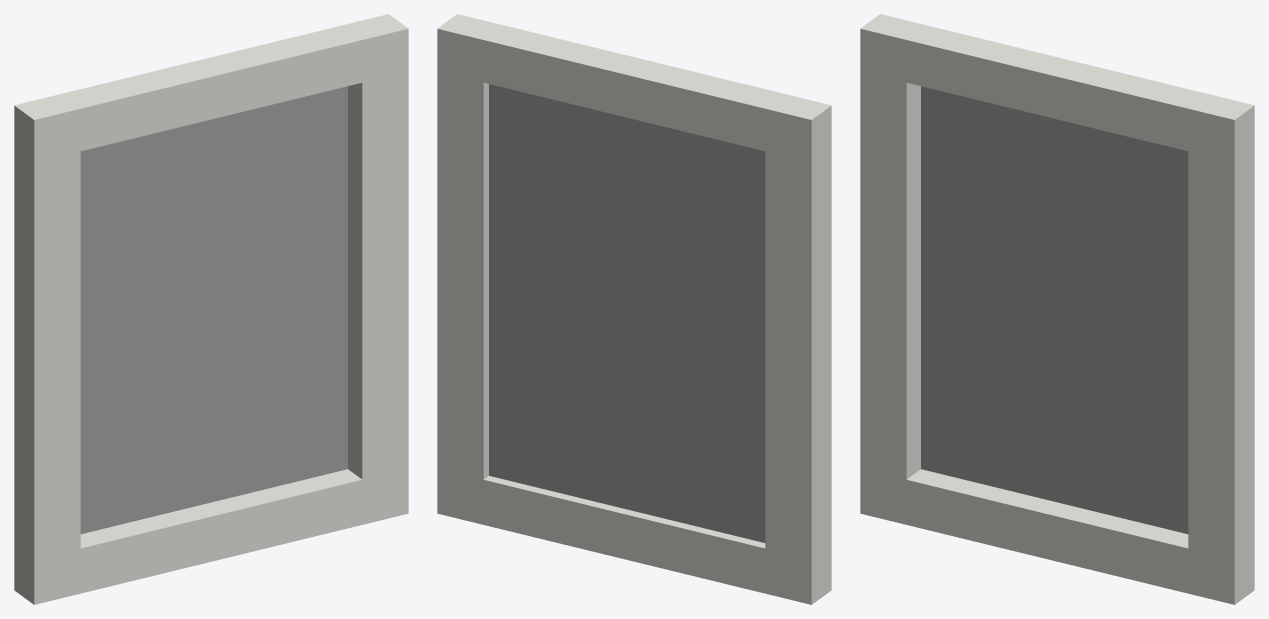
Rendered from Window_3A.fbx.
3 renders of one model, left to right at view 1: azimuth 30°, elevation 25°; view 2: azimuth 150°, elevation 25°; view 3: azimuth 330°, elevation 25°, orthographic.
Visible parts, largest first — view 1: Window_Glass5, polySurface1997; view 2: Window_Glass5, polySurface1997; view 3: Window_Glass5, polySurface1997.
Boxes of the visible parts, left/top/right/bottom form: Window_Glass5: left=80, top=86, right=347, bottom=534; polySurface1997: left=14, top=14, right=408, bottom=604; Window_Glass5: left=489, top=84, right=765, bottom=542; polySurface1997: left=437, top=14, right=831, bottom=604; Window_Glass5: left=921, top=86, right=1188, bottom=534; polySurface1997: left=860, top=14, right=1254, bottom=604.
Size of the model in its own units: 1.62 by 2 by 0.15.
2 materials, 1 textured.
